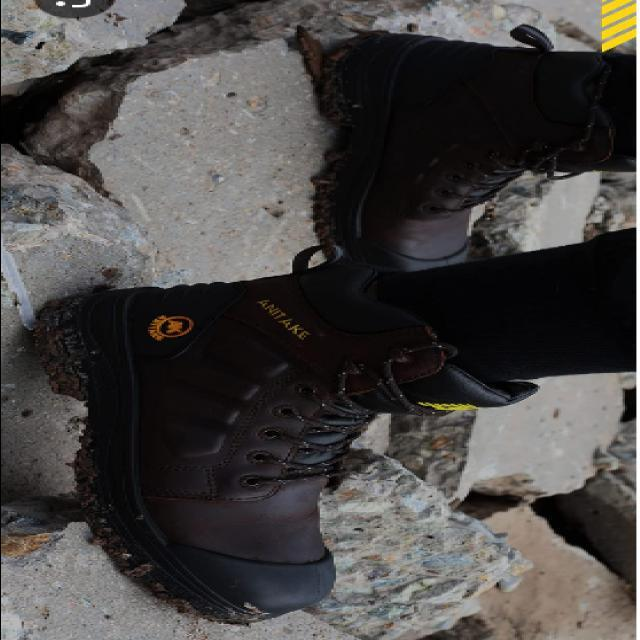boots: (24, 22, 631, 629)
